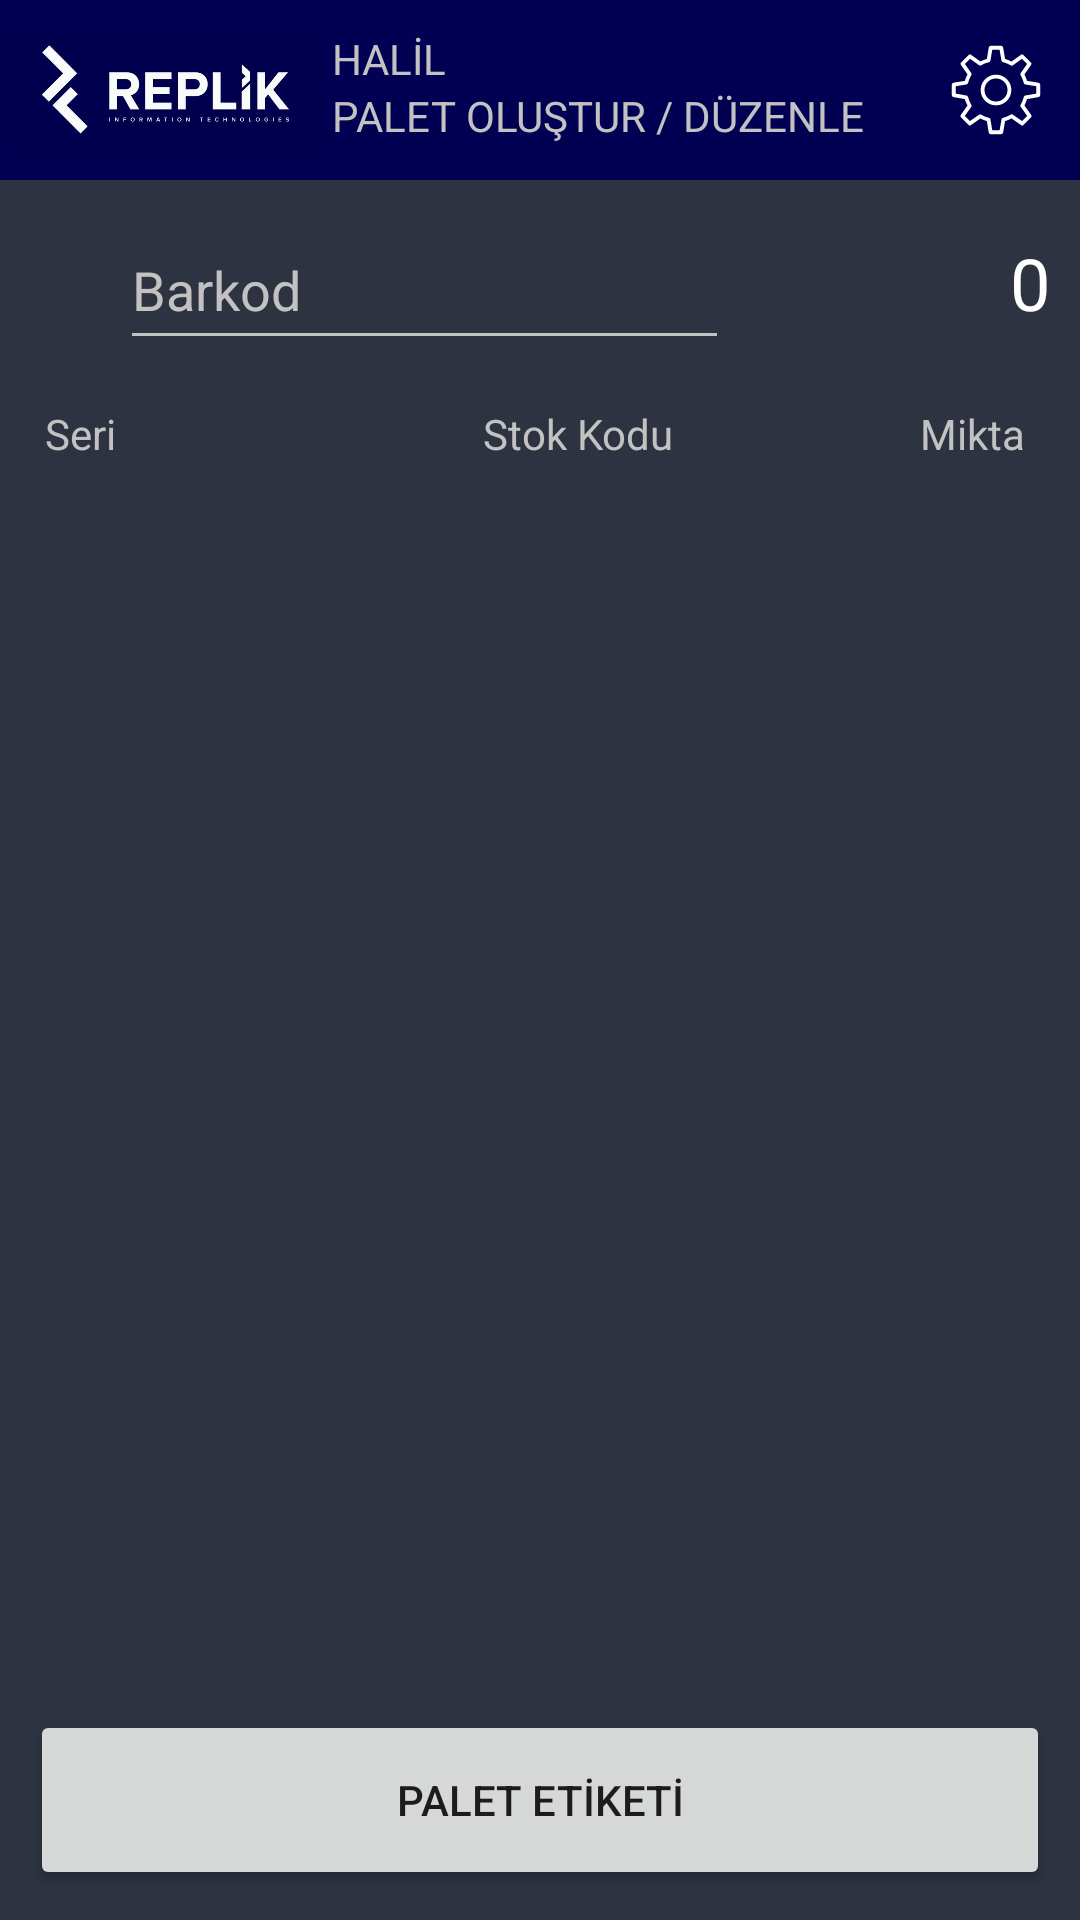

Icon bounding boxes for this 1080×1920 phone screenshot, format (x1, y1, x2, y2):
settings: (951, 45, 1041, 135)
